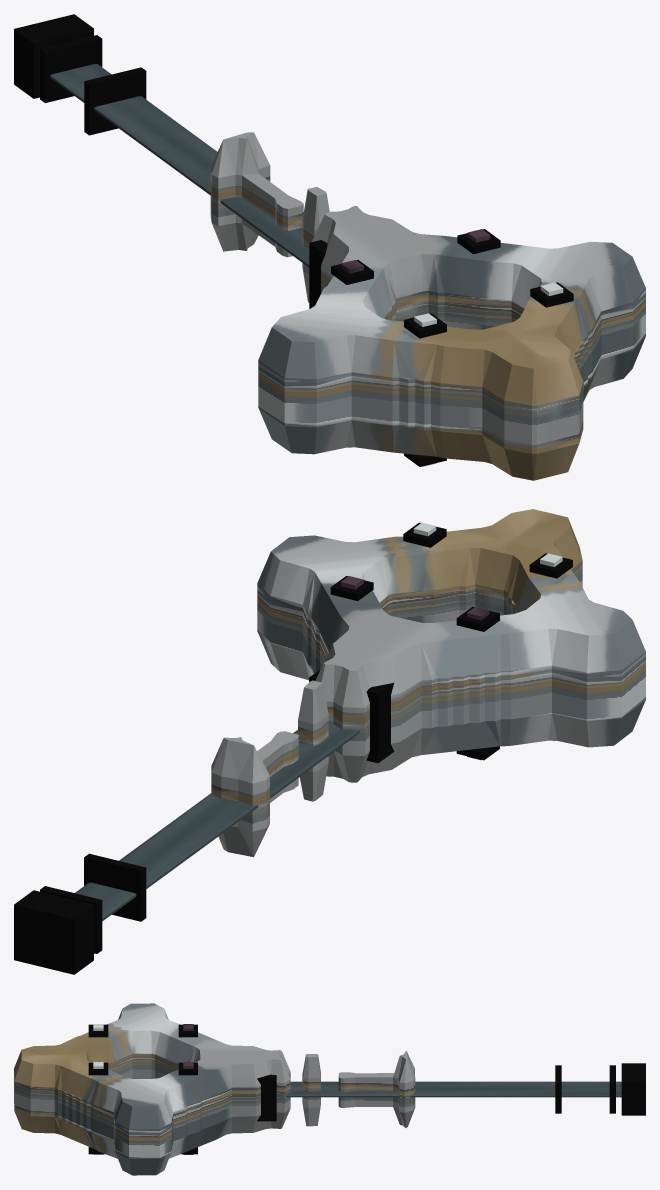
Rendered from ring_flange_hammer.obj.
The picture shows the model from 3 angles, top to bottom: view 1: azimuth 30°, elevation 25°; view 2: azimuth 150°, elevation 25°; view 3: azimuth 270°, elevation 25°; orthographic projection. The views are drawn at different scales.
Parts seen in each view (by area): view 1: ring_flange_hammer; view 2: ring_flange_hammer; view 3: ring_flange_hammer.
Part boxes in pixels (left/top/right/bottom): ring_flange_hammer: left=14, top=14, right=645, bottom=480; ring_flange_hammer: left=14, top=509, right=645, bottom=974; ring_flange_hammer: left=14, top=1003, right=645, bottom=1175.
Bounding box in the file's own units: 0.565 × 0.2138 × 1.38.
